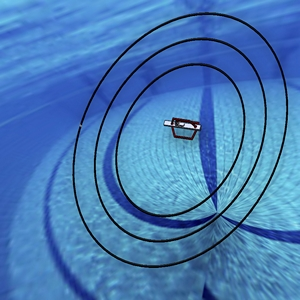circle: (68, 10, 295, 273)
submarine: (154, 107, 208, 151)
